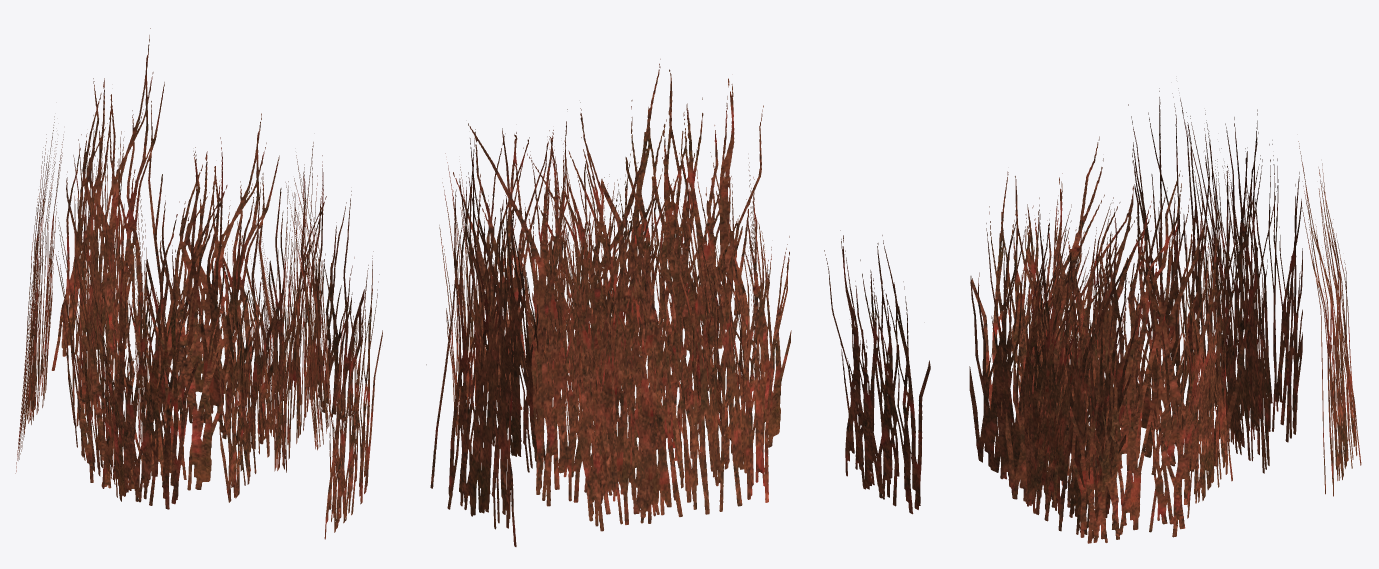
Rendered from grass_3d_02_red.glb.
The picture shows the model from 3 angles, left to right: view 1: azimuth 30°, elevation 25°; view 2: azimuth 150°, elevation 25°; view 3: azimuth 270°, elevation 25°; orthographic projection. The views are drawn at different scales.
Parts seen in each view (by area): view 1: grass_cards; view 2: grass_cards; view 3: grass_cards.
Boxes of the visible parts, x1,y1,x2,y2 form: grass_cards: (15, 28, 382, 539); grass_cards: (426, 59, 791, 546); grass_cards: (824, 88, 1361, 543).
Bounding box in the file's own units: 0.611 × 0.6851 × 0.8281.
Materials: 1 (1 with a texture image).
